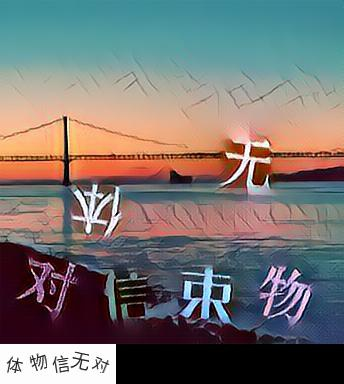char: (19, 256, 79, 323), (180, 268, 237, 326), (261, 265, 313, 326), (69, 180, 123, 238), (221, 138, 274, 192), (104, 270, 151, 321)
